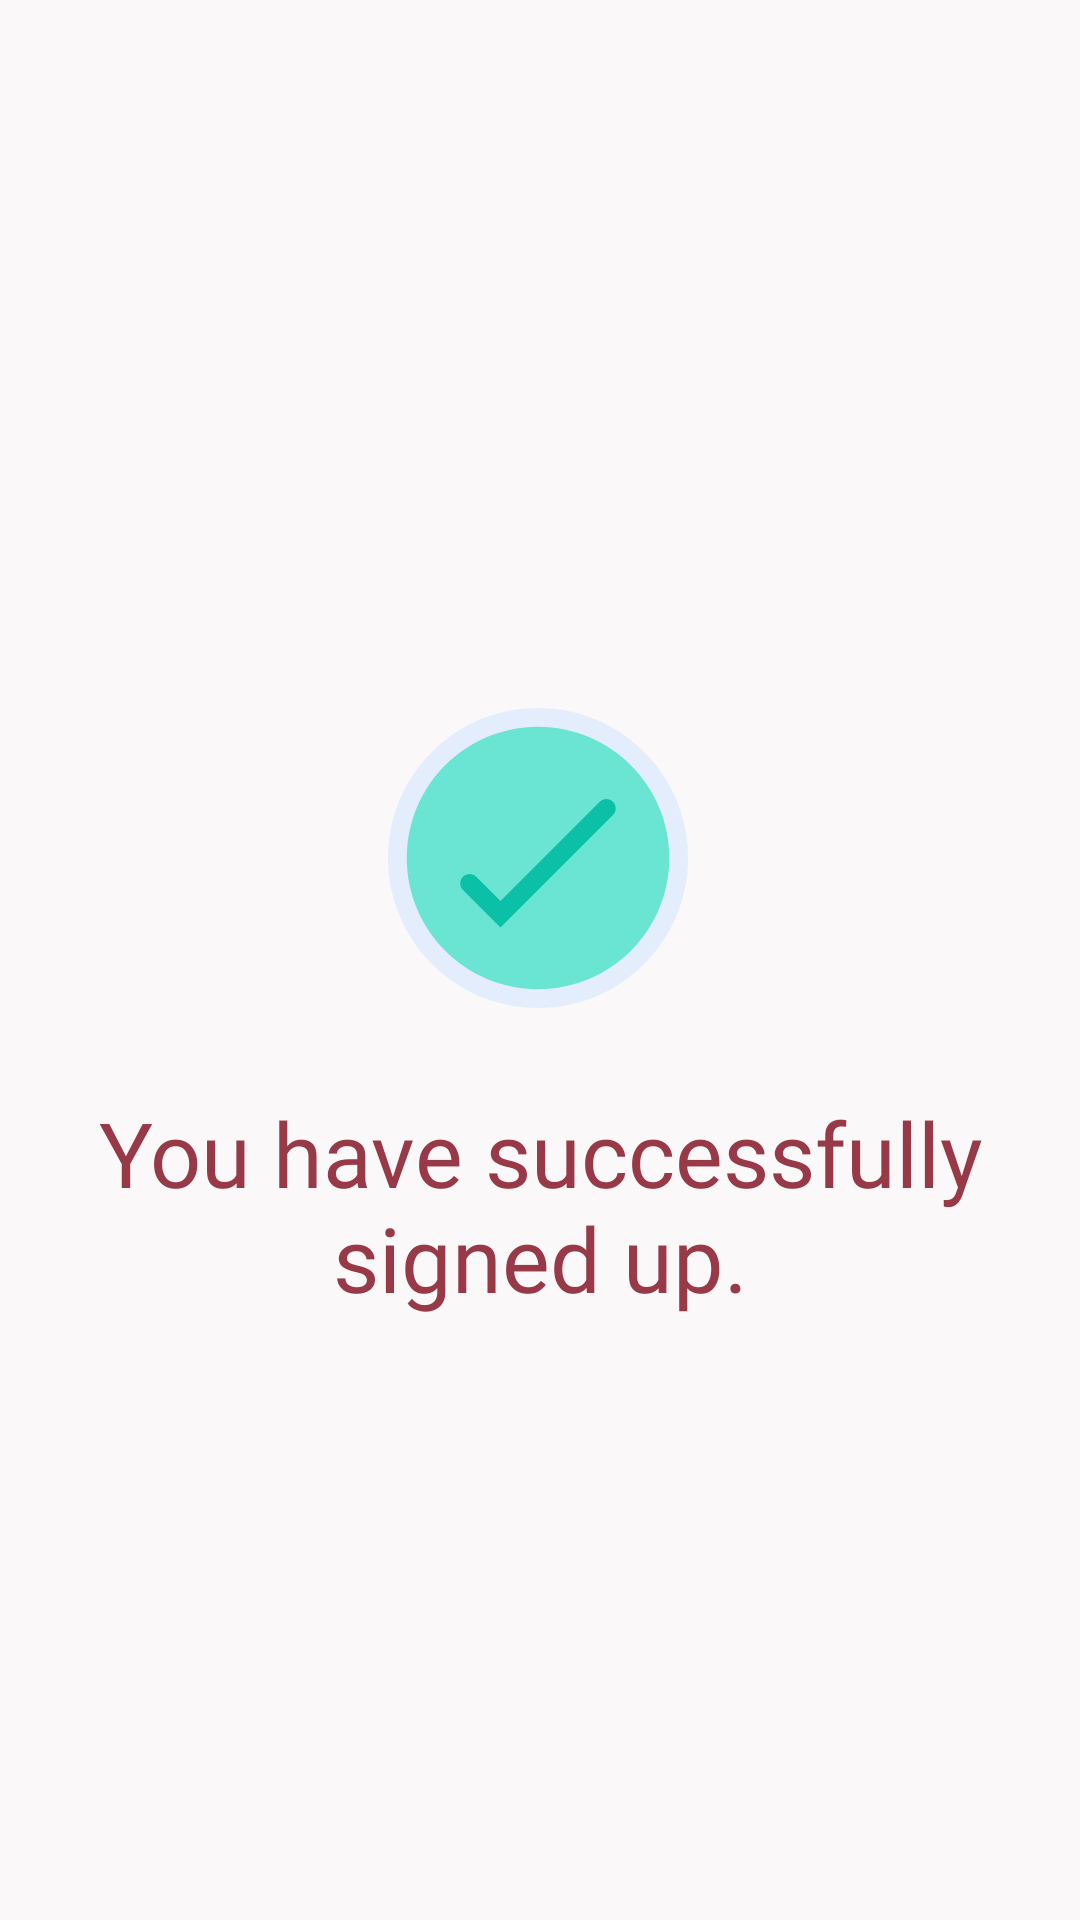

Named icons in this screenshot (1080 x 1920) and their bounding boxes, (x1, y1, x2, y2):
correct: (406, 726, 670, 990)
